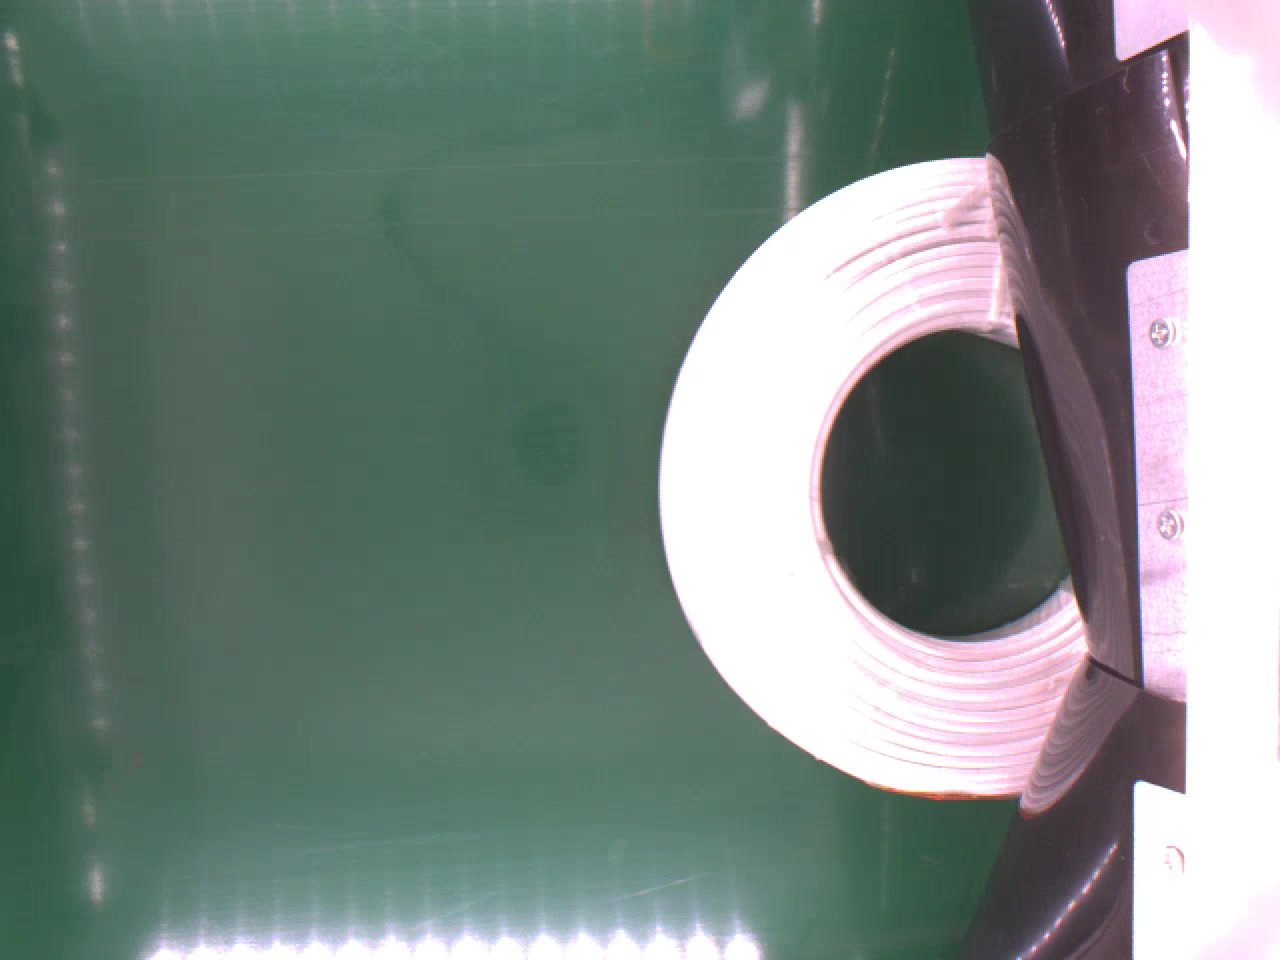white: (653, 158, 1085, 804)
